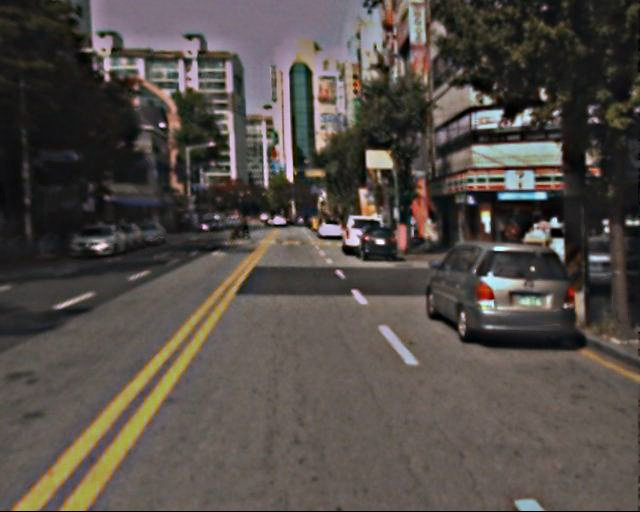person: (502, 214, 526, 267), (241, 212, 252, 240)
